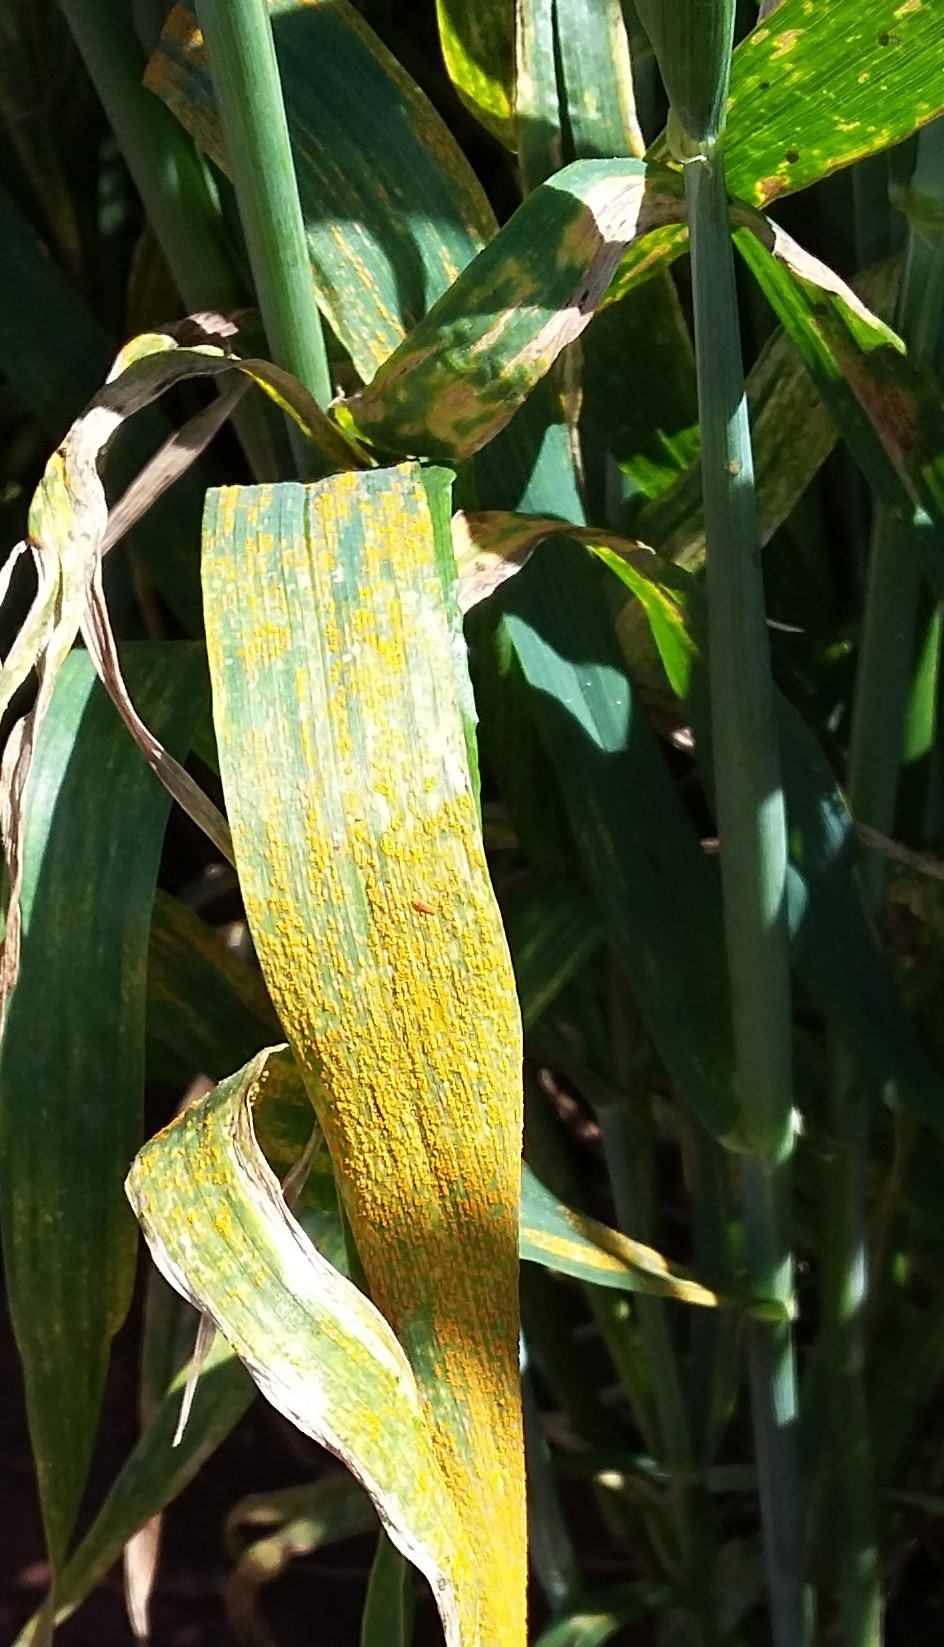Leaf Rust: (227, 543, 575, 1552)
